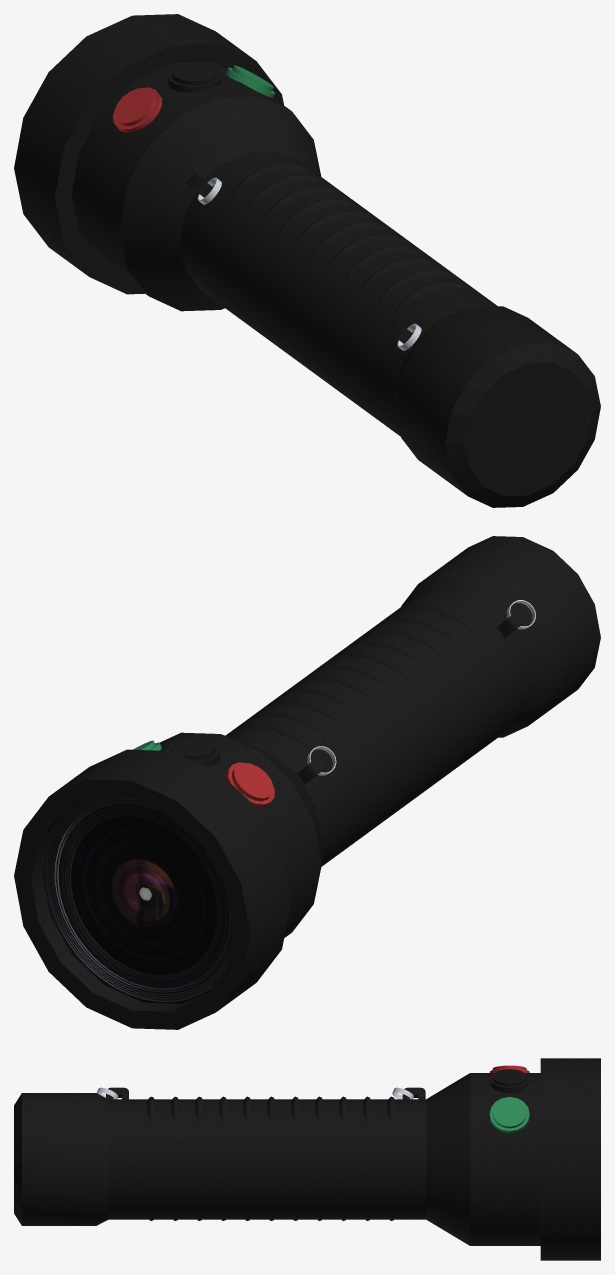
File: ShouDianTong.FBX
3 renders of one model, top to bottom at view 1: azimuth 30°, elevation 25°; view 2: azimuth 150°, elevation 25°; view 3: azimuth 270°, elevation 25°, orthographic. The views are drawn at different scales.
Visible parts, largest first — view 1: Box013, Circle002, Circle001, Circle003; view 2: Box013, Circle002, Circle001; view 3: Box013, Circle003, Circle001.
Part boxes in pixels (<box>): Box013: <box>14,14,600,507</box>; Circle002: <box>113,87,162,132</box>; Circle001: <box>167,62,221,92</box>; Circle003: <box>226,65,275,97</box>; Box013: <box>14,536,600,1029</box>; Circle002: <box>225,762,274,807</box>; Circle001: <box>166,737,220,766</box>; Box013: <box>14,1058,600,1260</box>; Circle003: <box>489,1097,529,1133</box>; Circle001: <box>489,1069,529,1093</box>.
Size of the model in its own units: 6.05 by 6.05 by 17.55.
